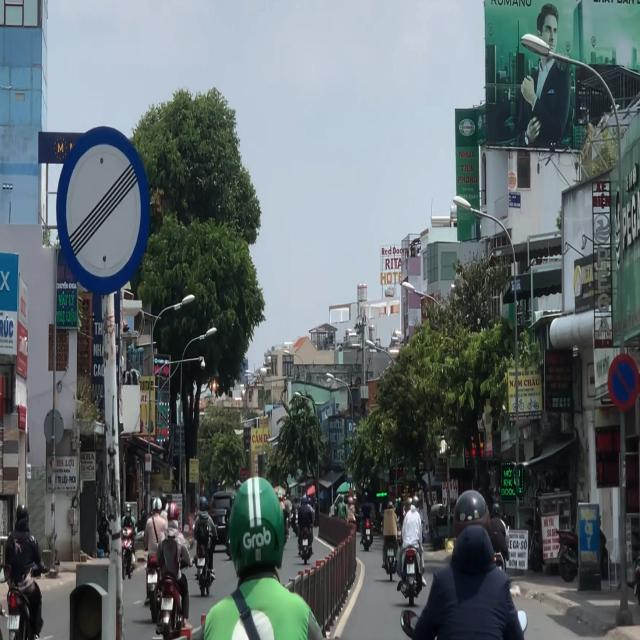Cam do: (607, 350, 640, 413)
Het tat ca lenh cam: (55, 118, 153, 298)
